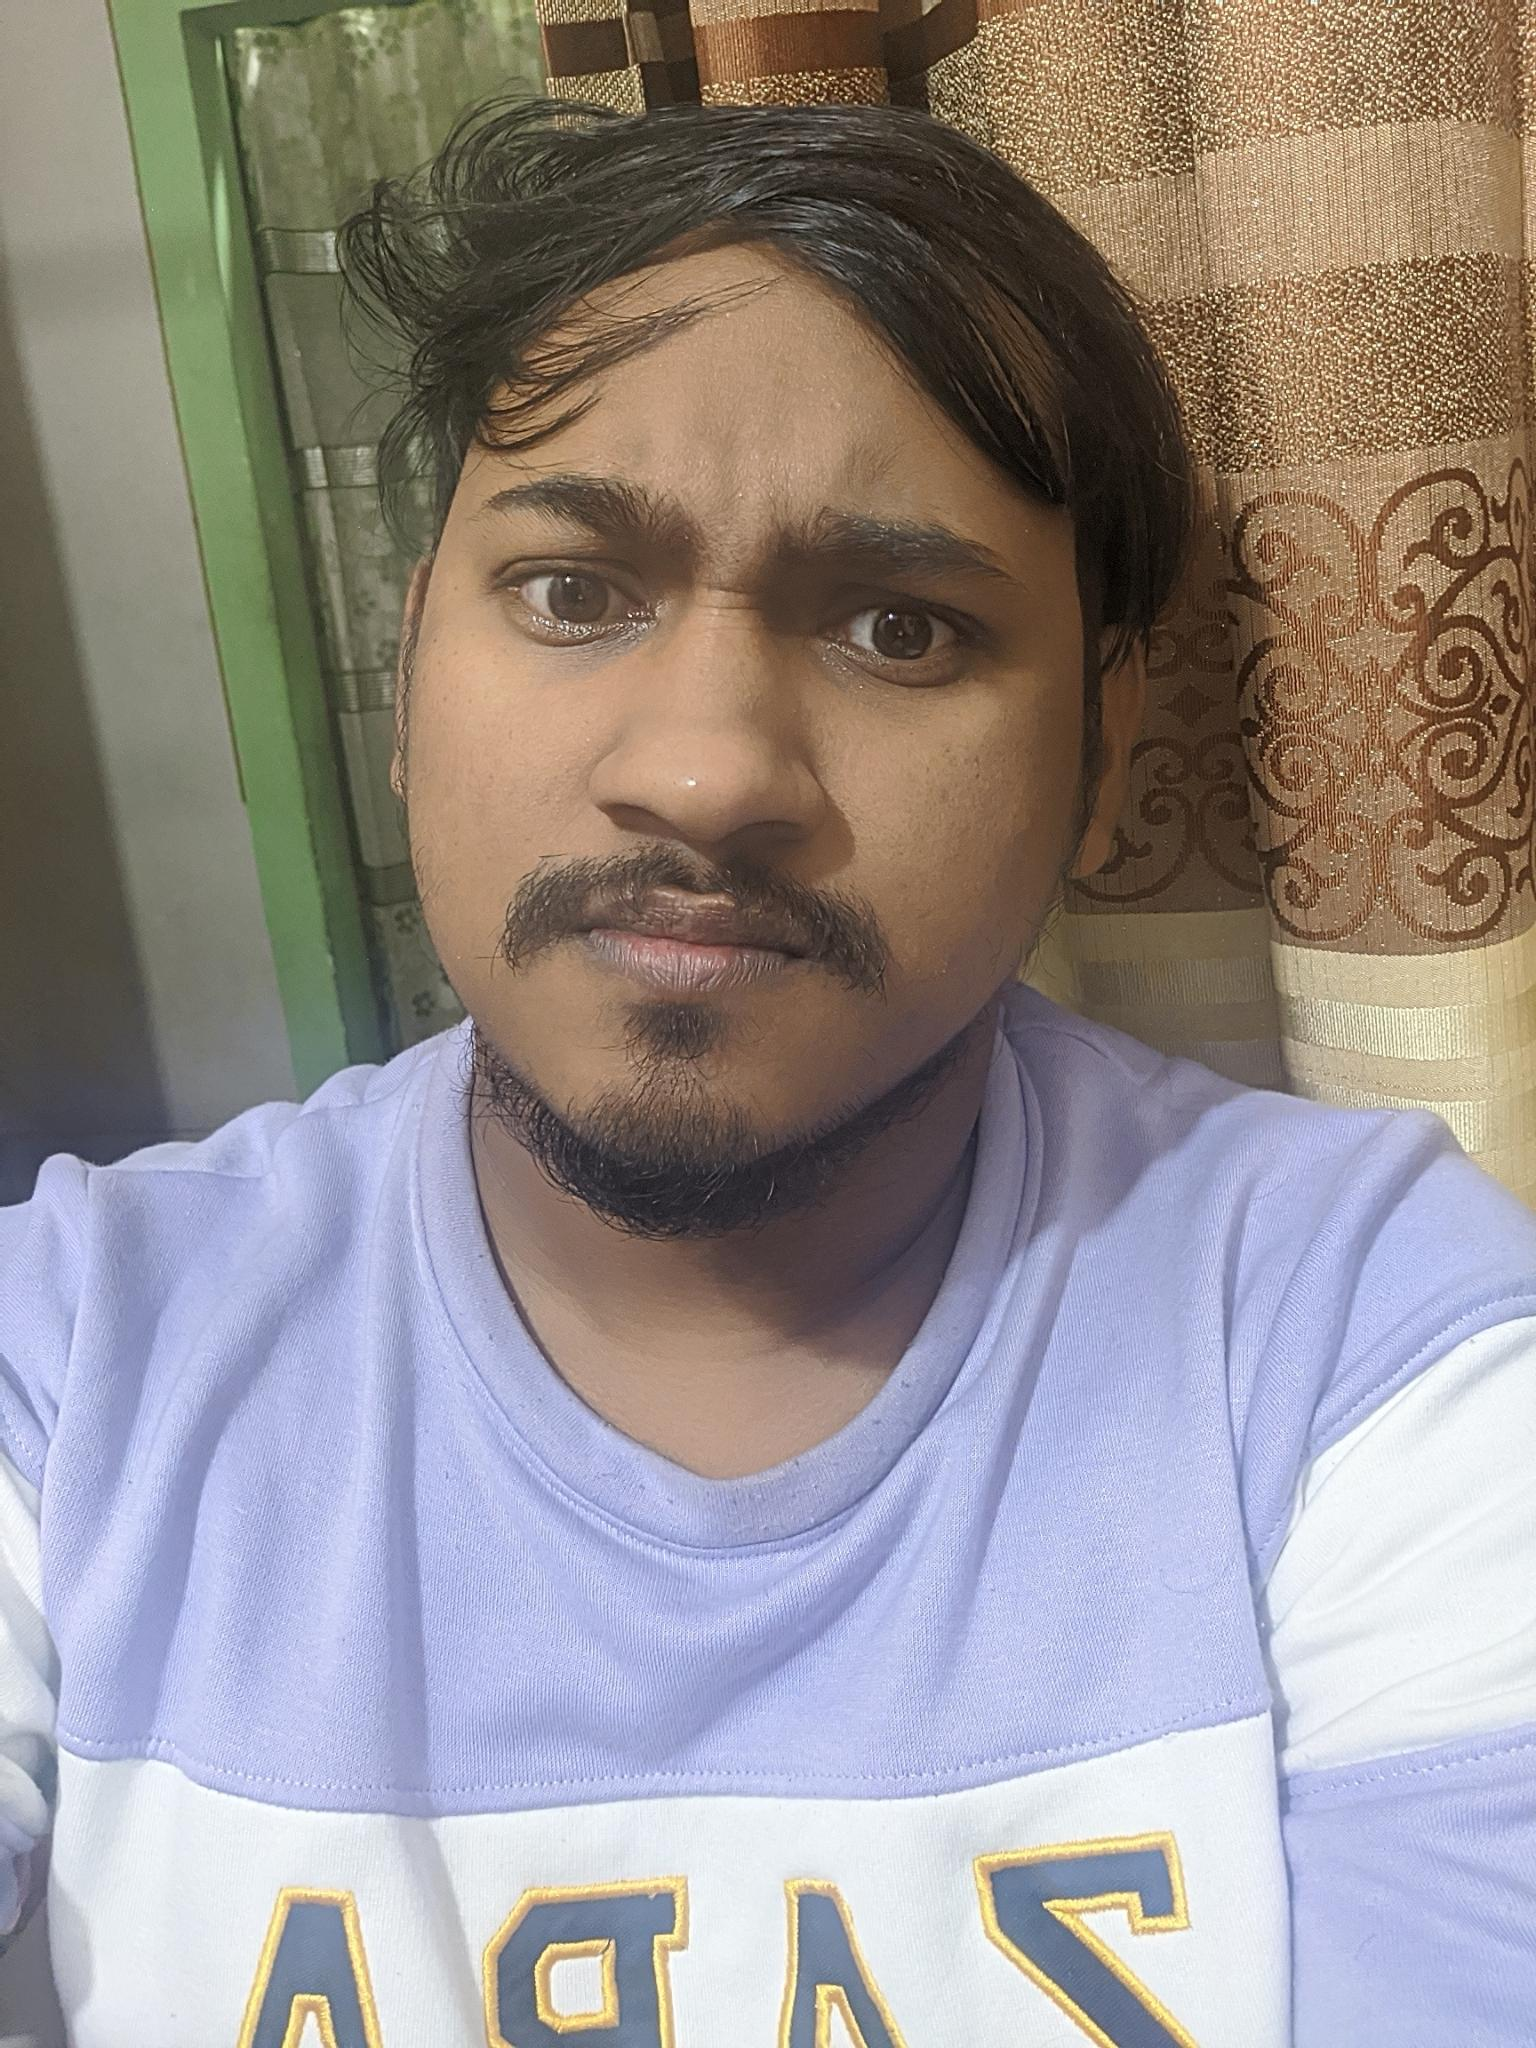Angry: (410, 389, 1073, 1213)
